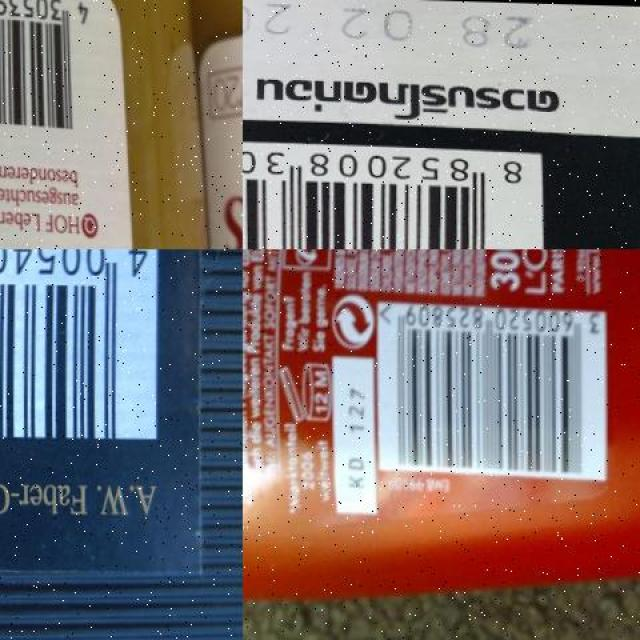Barcode: (370, 298, 610, 482), (0, 249, 164, 447), (243, 139, 536, 249), (0, 0, 96, 144)
